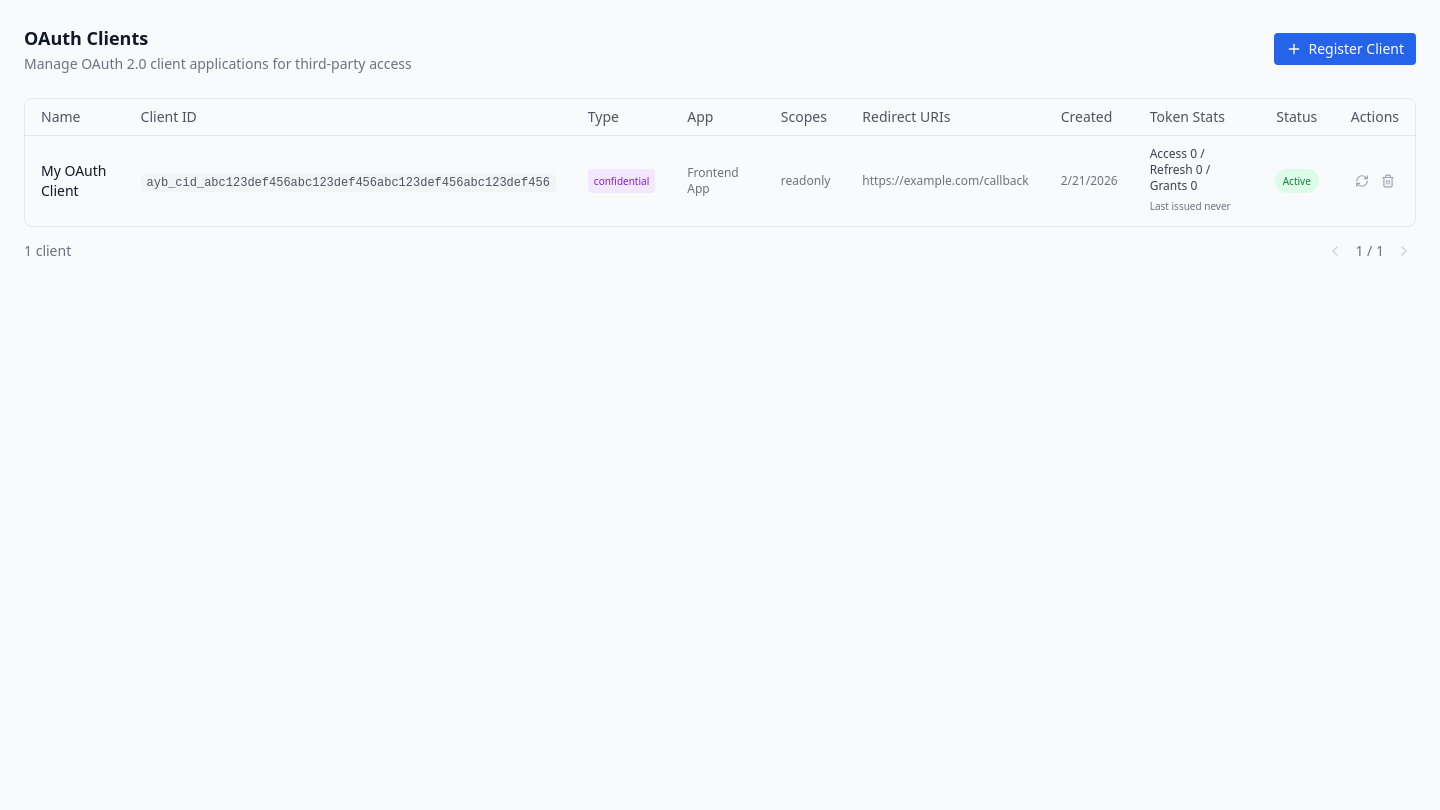
it: OAuthClients › rotate secret button opens confirmation and shows new secret
Expected: the text "My OAuth Client" is shown, [41,161,106,200]
Click the button titled "Rotate secret" at (1362,181), box [1351,170,1373,192]
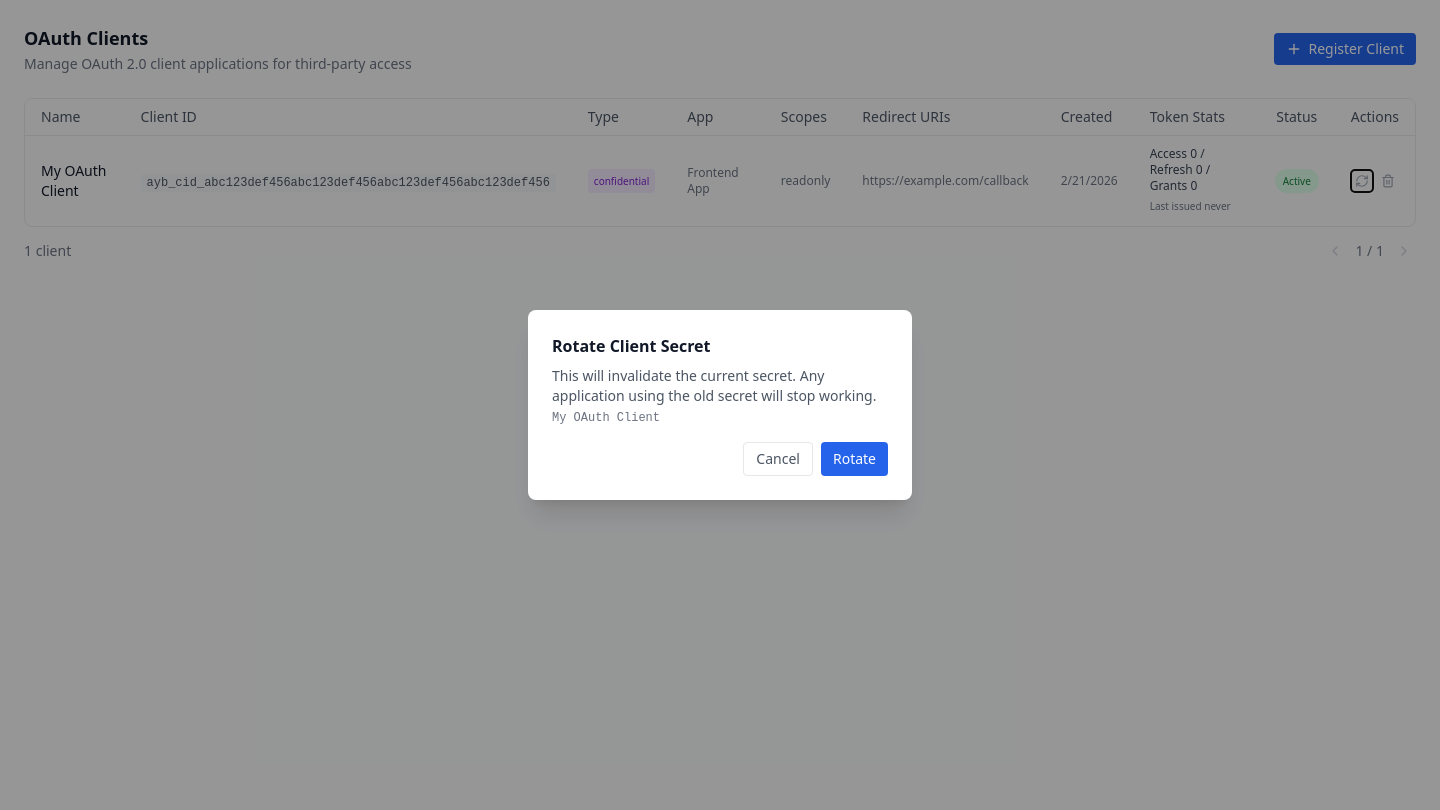
Expected: the heading "Rotate Client Secret" is shown, [552,335,710,357]
Click the button "Rotate" at (854,459), box [821,442,888,476]
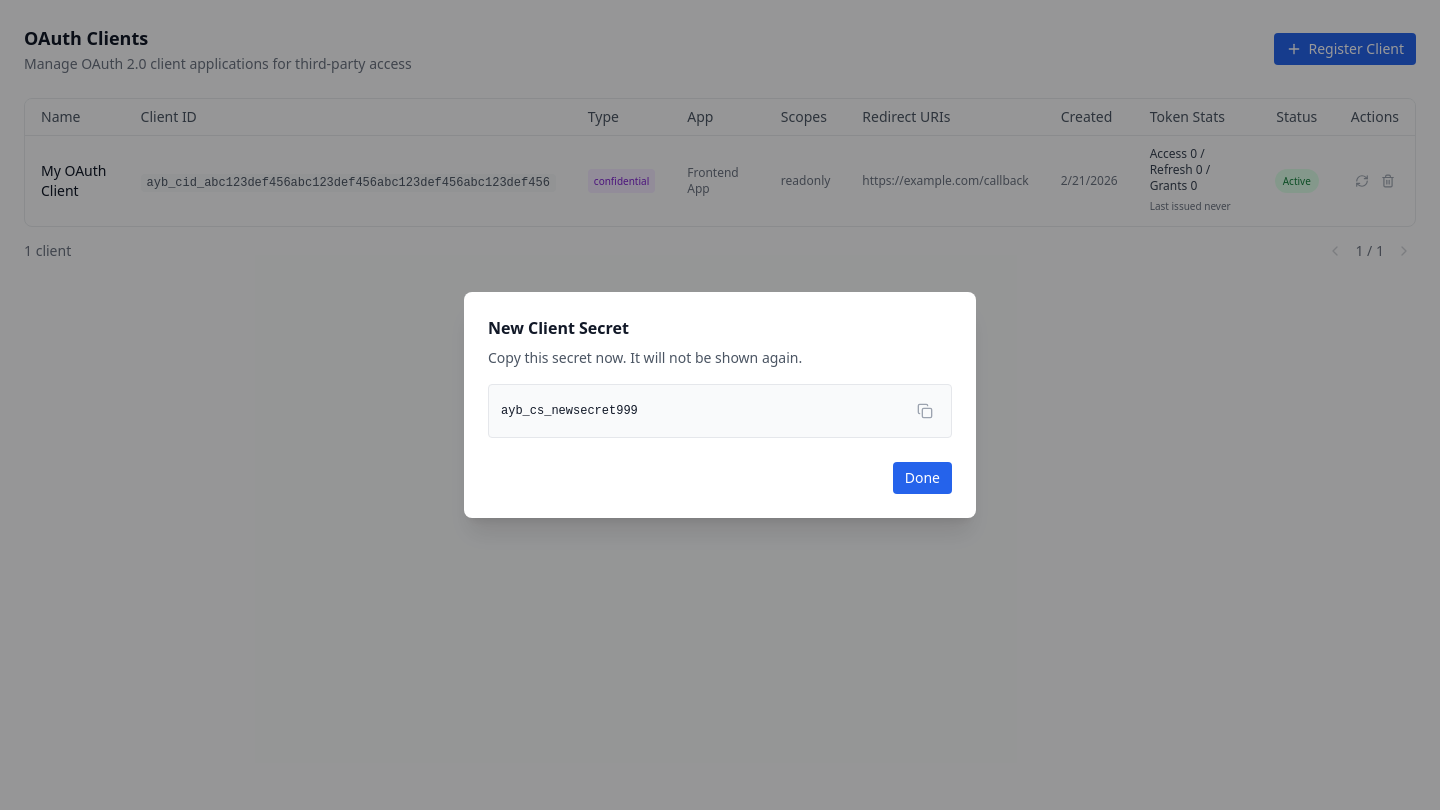
Expected: the heading "New Client Secret" is shown, [488,317,629,339]
Expected: the text "ayb_cs_newsecret999" is shown, [501,404,638,418]
